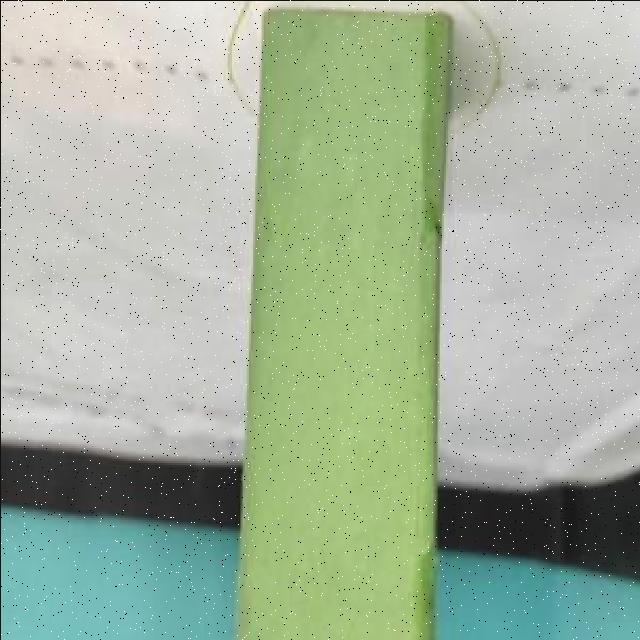greenbox: (231, 11, 450, 640)
